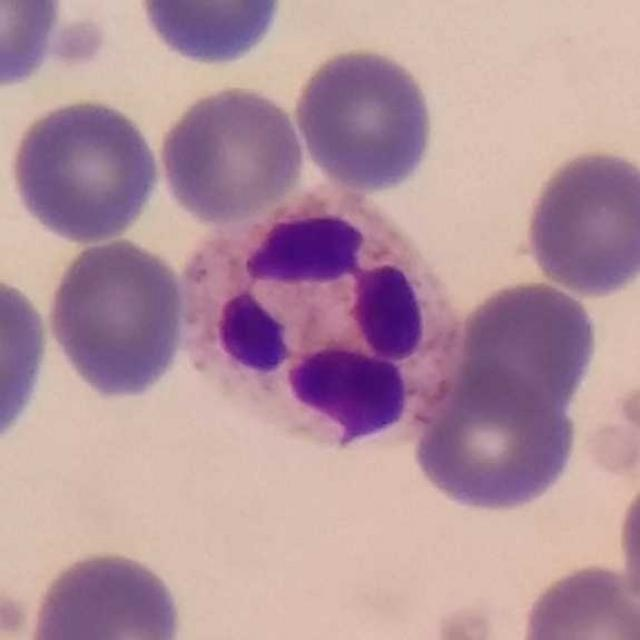Neutrophil: (166, 170, 470, 450)
RBC: (409, 362, 582, 516), (44, 235, 190, 404), (5, 93, 164, 246), (153, 81, 310, 225), (290, 43, 438, 195), (452, 277, 602, 421), (520, 144, 640, 300), (23, 544, 188, 640), (132, 0, 290, 71), (0, 267, 55, 456), (516, 558, 639, 640), (0, 0, 65, 95), (613, 463, 640, 630)
